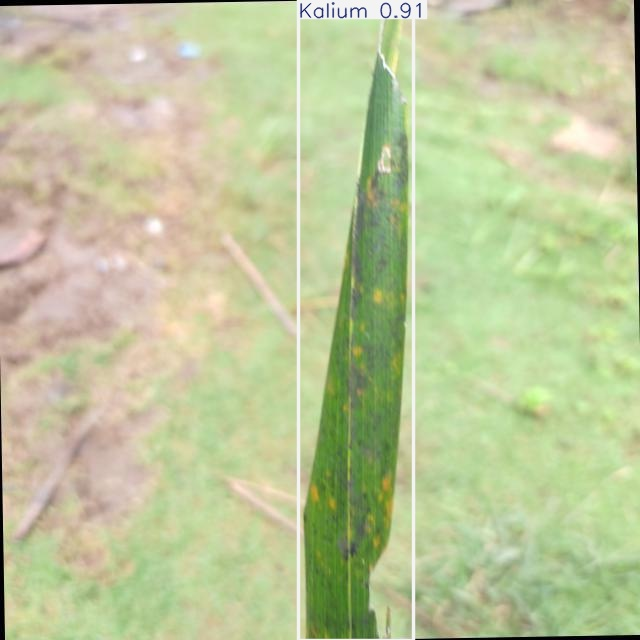Kalium: (299, 0, 414, 640)
